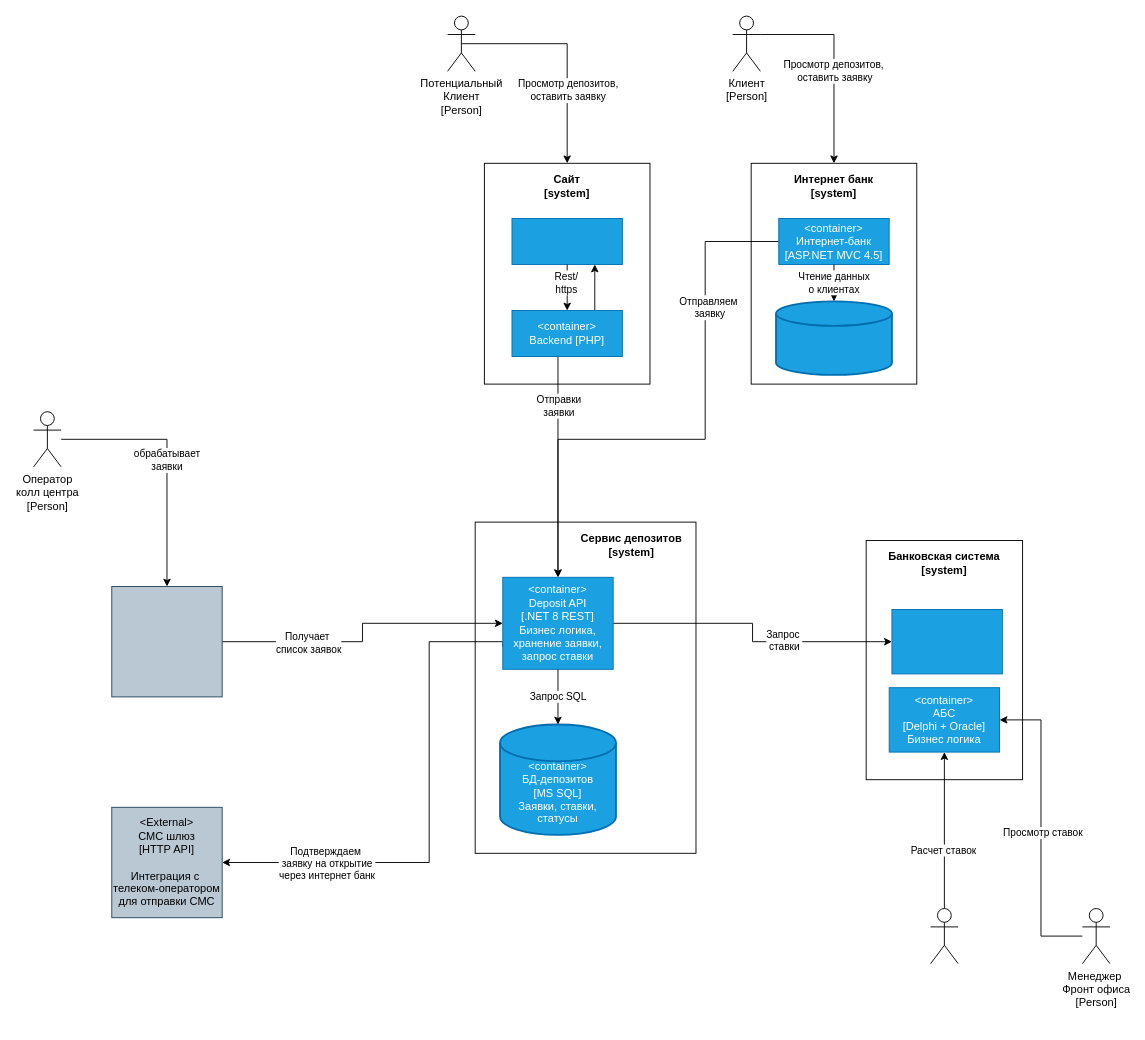
This 1145x1040 diagram has some shape labels left out. Each missing label, with the box of its shape:
<container> Frontend [React.js]: (511, 218, 622, 264)
<container> БД интернет-банка [MS SQL]: (775, 300, 892, 375)
<container> Расчет ставок [.NET 8 REST] Бизнес логика: (891, 609, 1002, 674)
<External> Система колл-центра [Java Spring Boot] Обработка звонков и обращений: (111, 586, 222, 697)
Менеджер Бэк офиса [Person]: (930, 908, 958, 964)
